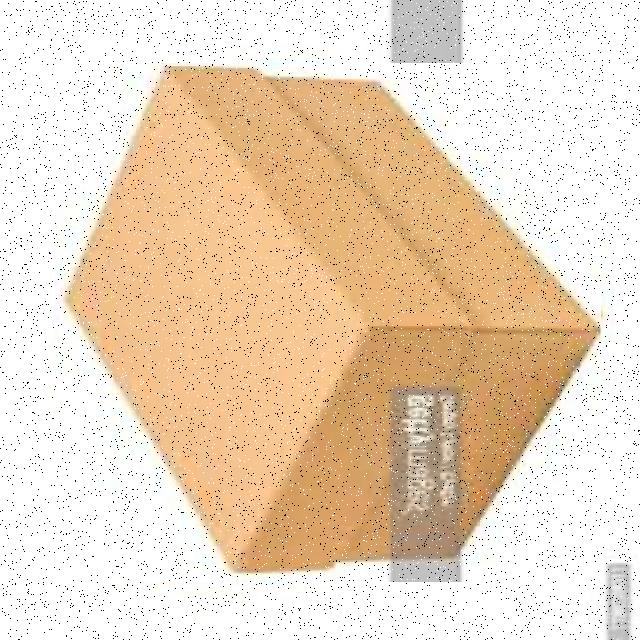normal: (56, 63, 602, 582)
